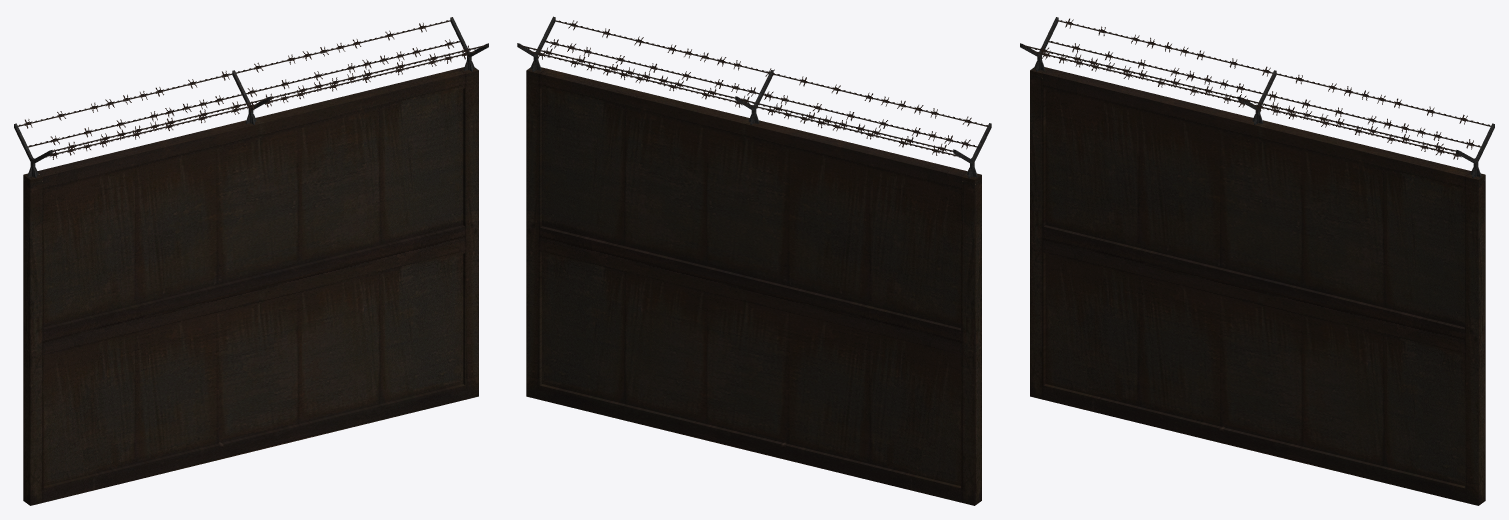
The model's file is metal_fence_hr_2.glb.
3 renders of one model, left to right at view 1: azimuth 30°, elevation 25°; view 2: azimuth 150°, elevation 25°; view 3: azimuth 330°, elevation 25°, orthographic.
Visible parts, largest first — view 1: metal_fence_hr_2; view 2: metal_fence_hr_2; view 3: metal_fence_hr_2.
Boxes of the visible parts, <box> form: metal_fence_hr_2: <box>14,17,488,505</box>; metal_fence_hr_2: <box>517,16,991,505</box>; metal_fence_hr_2: <box>1020,17,1494,505</box>.
Bounding box in the file's own units: 3.6 × 2.82 × 0.5551.
Materials: 3 (3 with a texture image).
